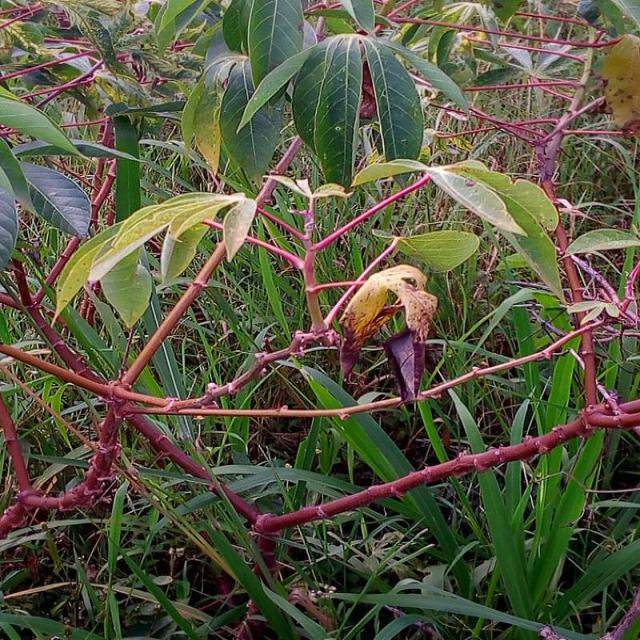cassava leaf: (291, 33, 363, 189)
